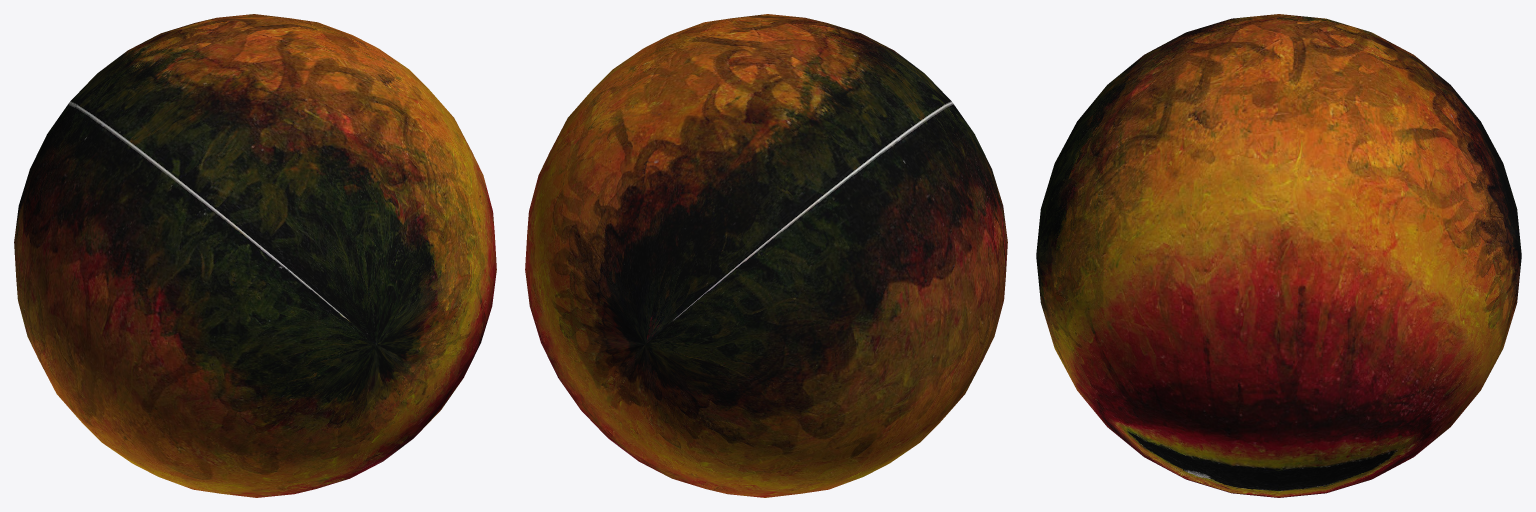
File: ball.obj
3 views of the same model, side by side, from view 1: azimuth 30°, elevation 25°; view 2: azimuth 150°, elevation 25°; view 3: azimuth 270°, elevation 25° (orthographic).
Visible parts, largest first — view 1: Ball; view 2: Ball; view 3: Ball.
Part boxes in pixels (box(x1,y1,x2,y2)): Ball: box(14, 14, 496, 497); Ball: box(525, 14, 1007, 497); Ball: box(1036, 14, 1521, 497).
Size of the model in its own units: 3.6 by 3.6 by 3.6.
1 material, 1 textured.
